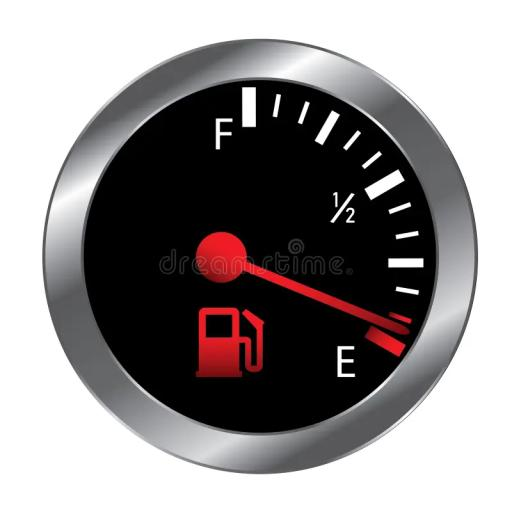empty: (334, 342, 358, 384)
fuel_icon: (194, 303, 266, 380)
full: (207, 114, 234, 151)
guage_area: (188, 82, 424, 387)
needle_center: (192, 226, 252, 286)
needle_tip: (366, 308, 411, 340)
